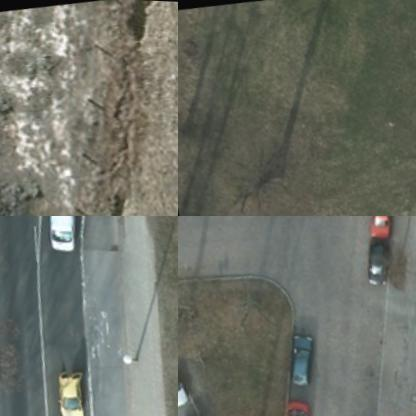car: (364, 231, 408, 290), (280, 330, 323, 386), (55, 369, 91, 415), (42, 216, 85, 250), (365, 216, 406, 239), (178, 349, 190, 410), (274, 399, 316, 415)
